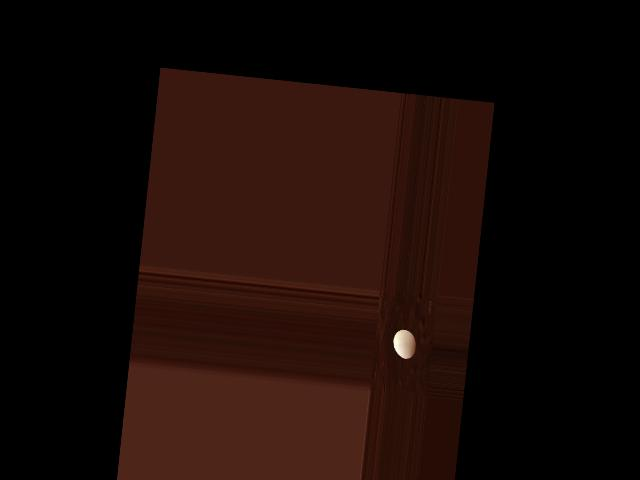egg: (392, 329, 417, 360)
